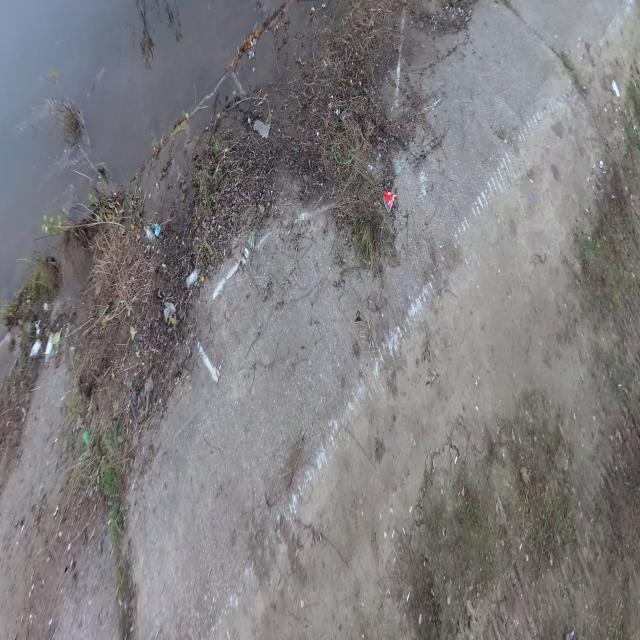rubbish: (240, 229, 256, 263), (185, 262, 204, 287), (44, 329, 57, 363), (252, 117, 271, 140), (382, 188, 397, 217), (143, 224, 158, 247), (152, 222, 161, 238)
